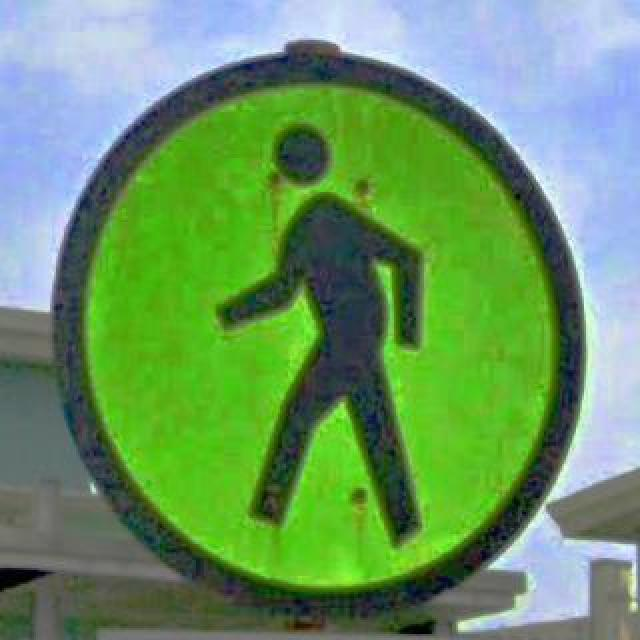pedestrian crossing: (52, 52, 584, 620)
